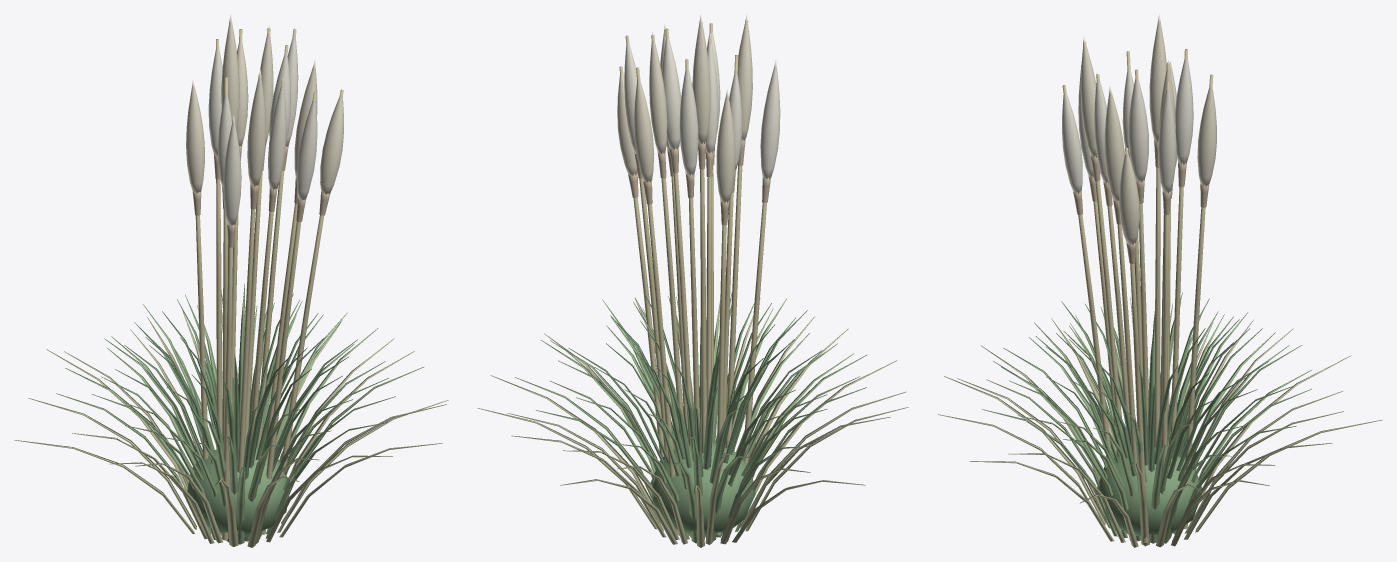
The model's file is pampas_cortadera_9.glb.
The picture shows the model from 3 angles, left to right: view 1: azimuth 30°, elevation 25°; view 2: azimuth 150°, elevation 25°; view 3: azimuth 270°, elevation 25°; orthographic projection.
Parts seen in each view (by area): view 1: CortStalks, CortBladeDeep, CortBladeMid, CortBladeDry, CortPlumeGold, CortPlumeSilk, CortSheaths; view 2: CortStalks, CortBladeDeep, CortBladeMid, CortBladeDry, CortPlumeGold, CortPlumeSilk, CortSheaths; view 3: CortStalks, CortBladeDeep, CortBladeMid, CortBladeDry, CortPlumeSilk, CortPlumeGold, CortSheaths.
Boxes of the visible parts, left/top/right/bottom form: CortStalks: left=195, top=22, right=343, bottom=540; CortBladeDeep: left=115, top=283, right=357, bottom=537; CortBladeMid: left=56, top=304, right=423, bottom=544; CortBladeDry: left=14, top=304, right=448, bottom=547; CortPlumeGold: left=186, top=14, right=343, bottom=194; CortPlumeSilk: left=208, top=28, right=317, bottom=225; CortSheaths: left=192, top=145, right=330, bottom=247; CortStalks: left=619, top=20, right=766, bottom=535; CortBladeDeep: left=568, top=292, right=822, bottom=536; CortBladeMid: left=514, top=297, right=867, bottom=543; CortBladeDry: left=477, top=297, right=908, bottom=547; CortPlumeGold: left=617, top=14, right=752, bottom=202; CortPlumeSilk: left=624, top=23, right=780, bottom=179; CortSheaths: left=628, top=138, right=770, bottom=225; CortStalks: left=1062, top=22, right=1213, bottom=542; CortBladeDeep: left=1035, top=292, right=1262, bottom=536; CortBladeMid: left=981, top=303, right=1311, bottom=543; CortBladeDry: left=937, top=297, right=1382, bottom=547; CortPlumeSilk: left=1062, top=59, right=1193, bottom=193; CortPlumeGold: left=1080, top=14, right=1216, bottom=245; CortSheaths: left=1073, top=140, right=1209, bottom=264.
Size of the model in its own units: 1.63 by 2.12 by 1.66.
